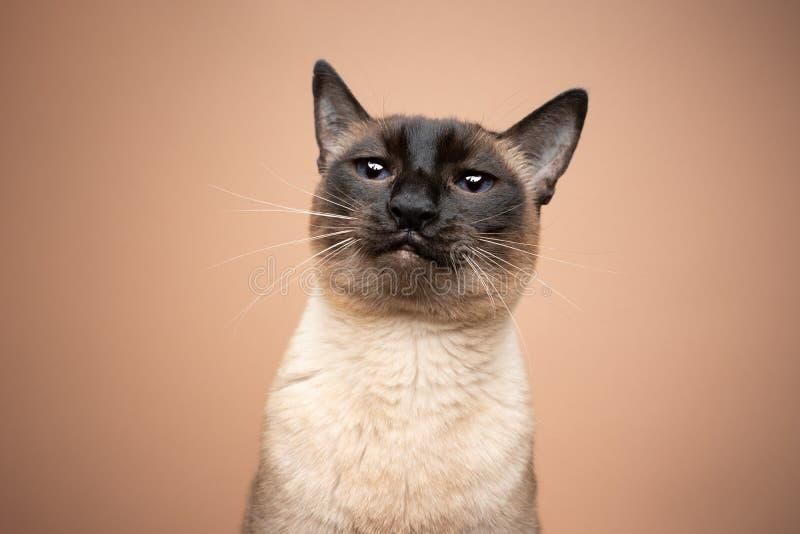siamese: (304, 56, 594, 323)
